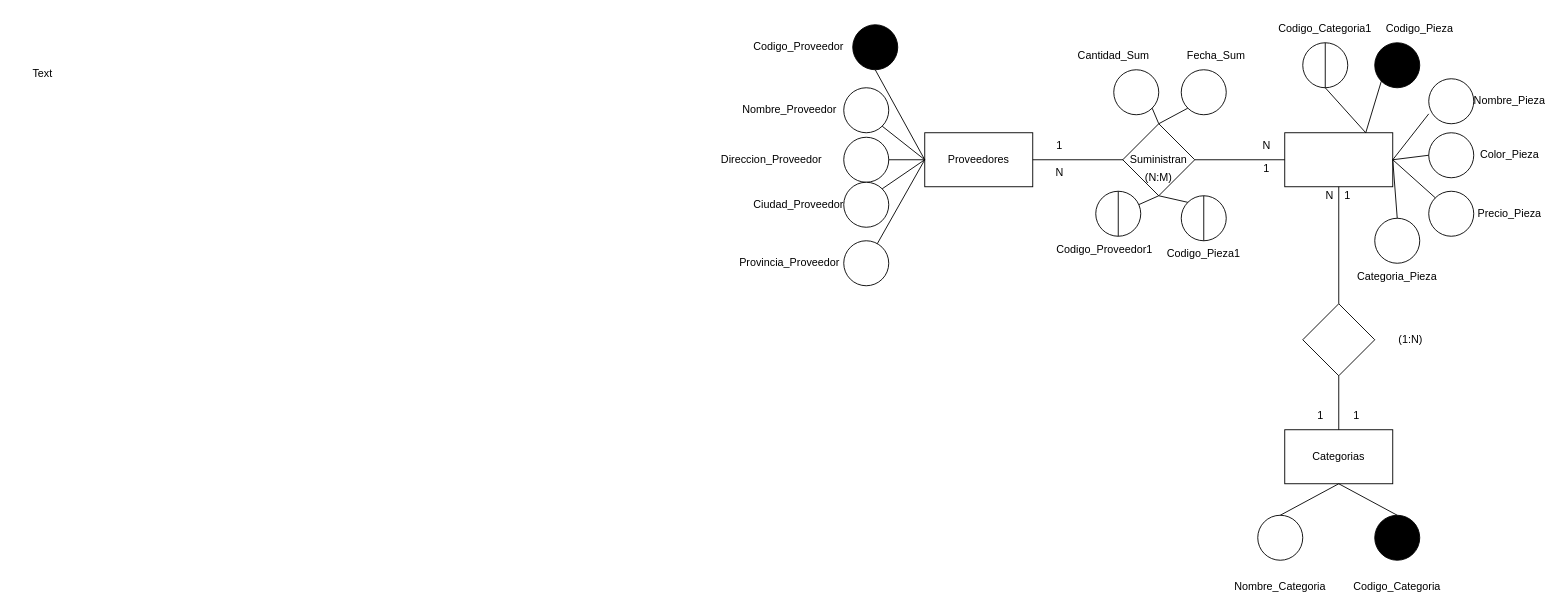
Some shapes in this 1561 by 616 pixel diagram are drawn without their labels. Here are the shapes that lost their labels. From the top down, the centre of each, then its label:
At point 1338,159: "Piezas".
At point 1338,339: "Pertenece".
